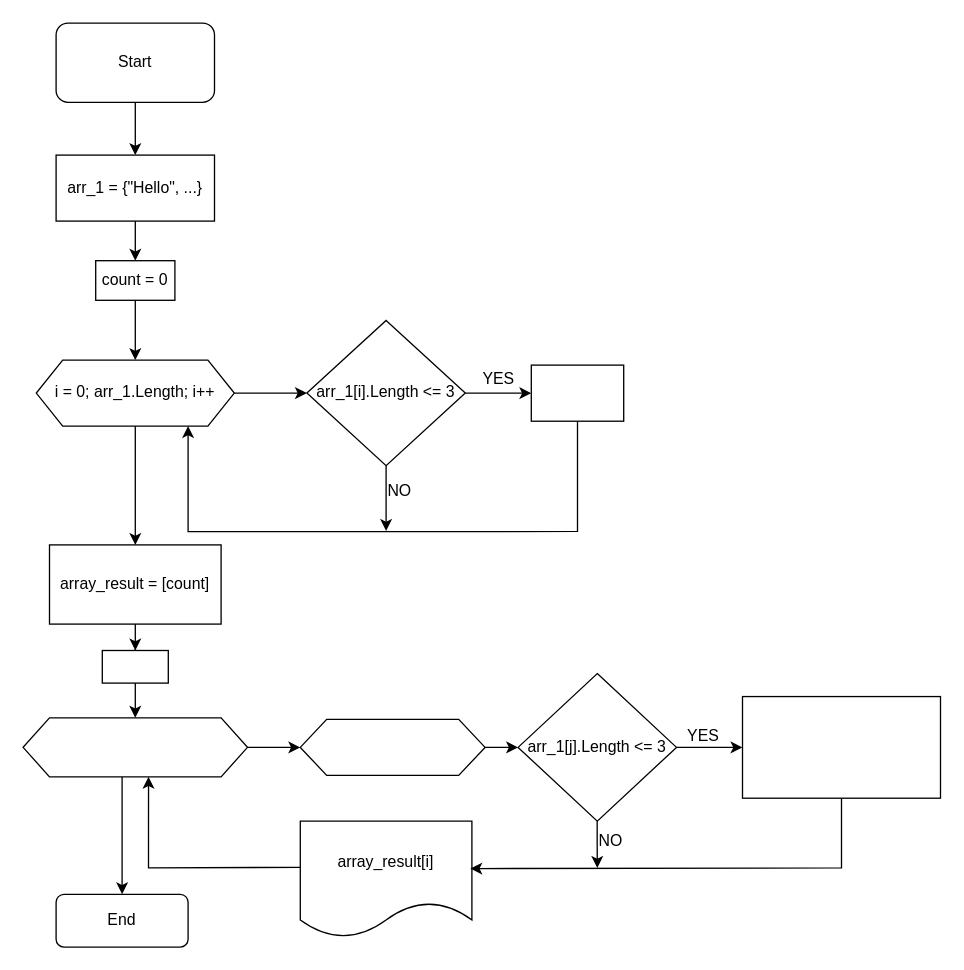
Some shapes in this 964 by 970 pixel diagram are drawn without their labels. Each missing label, with the centre of its shape:
array_result[i] = arr_1[j] k = j + 1 break: point (840, 746)
count += 1: point (577, 392)
i = 0; array_result.Length; i++: point (135, 746)
j = k; arr_1.Length; j++: point (392, 746)
k = 0: point (134, 666)
